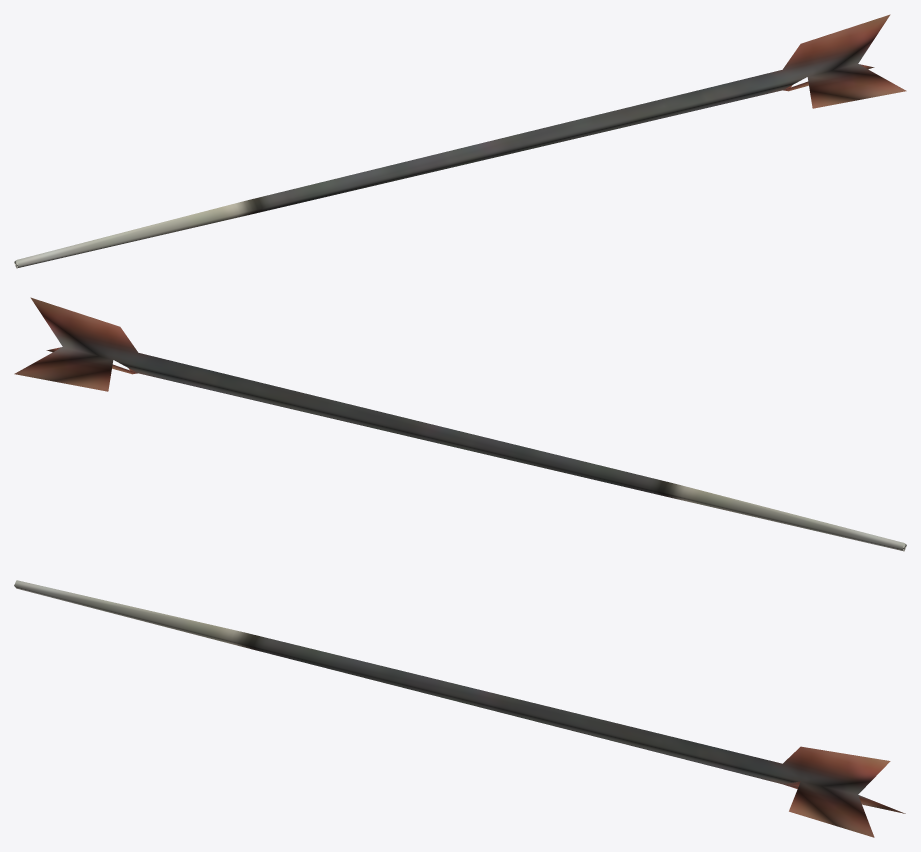
File: specialArrow.glb
3 renders of one model, top to bottom at view 1: azimuth 30°, elevation 25°; view 2: azimuth 150°, elevation 25°; view 3: azimuth 330°, elevation 25°, orthographic.
Parts seen in each view (by area): view 1: specialArrow; view 2: specialArrow; view 3: specialArrow.
Boxes of the visible parts, box(x1,y1,x2,y2) form: specialArrow: box(14, 14, 906, 268); specialArrow: box(14, 297, 906, 551); specialArrow: box(14, 580, 905, 837).
Bounding box in the file's own units: 1.16 × 0.0826 × 0.0745.
Materials: 1 (1 with a texture image).
